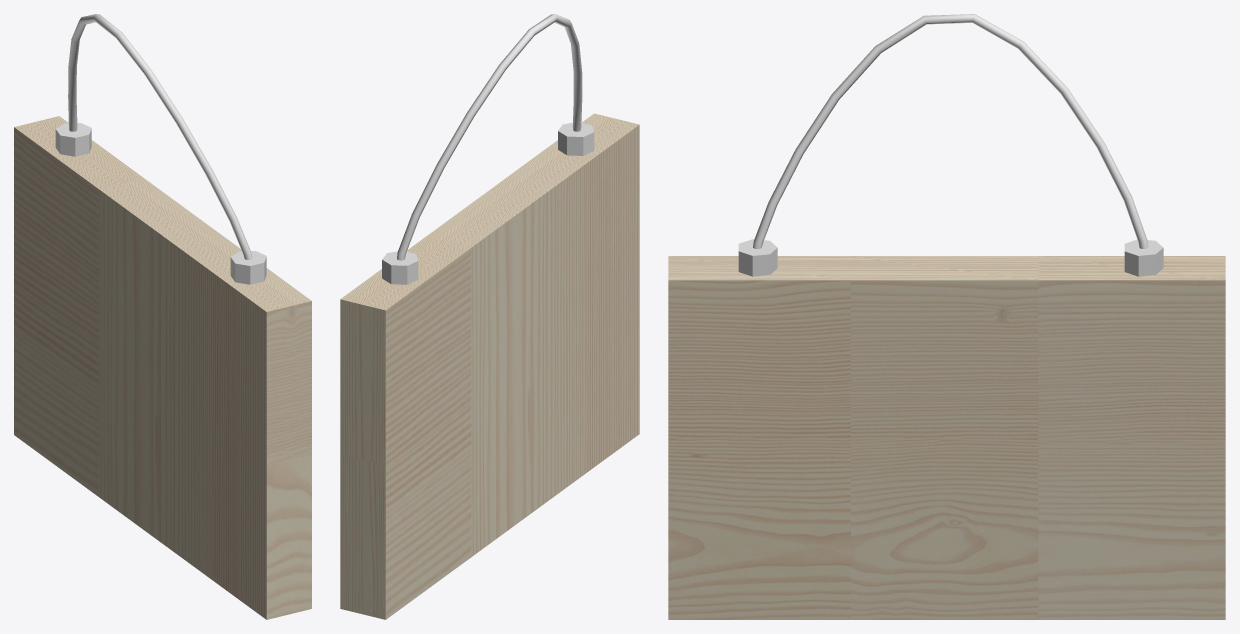
The model's file is woodyboard.fbx.
The picture shows the model from 3 angles, left to right: view 1: azimuth 30°, elevation 25°; view 2: azimuth 150°, elevation 25°; view 3: azimuth 270°, elevation 25°; orthographic projection. The views are drawn at different scales.
Parts seen in each view (by area): view 1: Cube, BezierCurve; view 2: Cube, BezierCurve; view 3: Cube, BezierCurve.
Boxes of the visible parts, x1,y1,x2,y2 form: Cube: (14,116,311,619); BezierCurve: (68,14,252,259); Cube: (340,113,639,619); BezierCurve: (397,14,582,260); Cube: (668,239,1225,619); BezierCurve: (753,14,1147,248).
Bounding box in the file's own units: 108 × 665 × 595.
